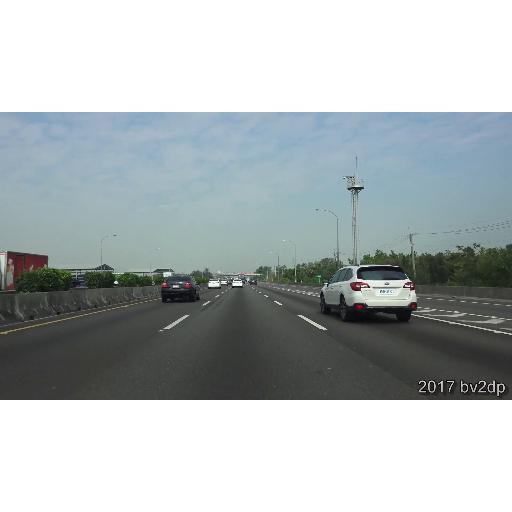Car: (319, 264, 417, 322), (161, 276, 201, 302), (208, 279, 222, 289), (232, 278, 242, 288), (220, 280, 228, 286), (250, 279, 256, 285)
